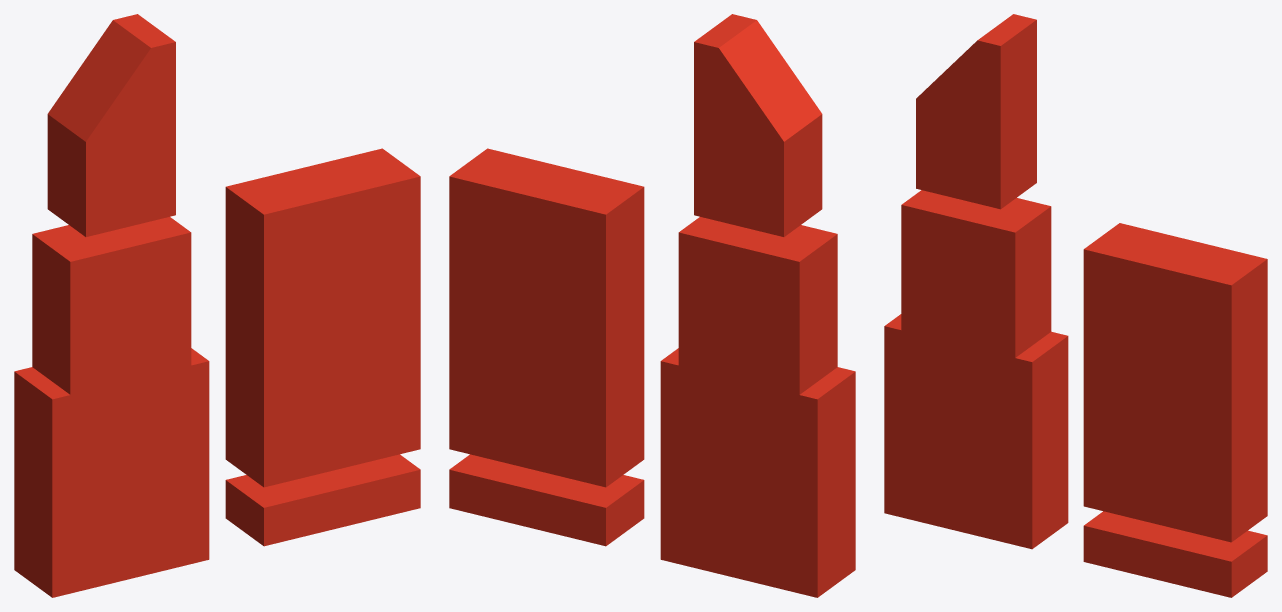
File: Icon_Lipstick.fbx
The picture shows the model from 3 angles, left to right: view 1: azimuth 30°, elevation 25°; view 2: azimuth 150°, elevation 25°; view 3: azimuth 330°, elevation 25°; orthographic projection. The views are drawn at different scales.
Visible parts, largest first — view 1: Icon_Lipstick; view 2: Icon_Lipstick; view 3: Icon_Lipstick.
Part boxes in pixels (x1=…): Icon_Lipstick: x1=14, y1=14, x2=420, y2=597; Icon_Lipstick: x1=449, y1=14, x2=855, y2=597; Icon_Lipstick: x1=884, y1=14, x2=1267, y2=597.
Bounding box in the file's own units: 56.02 × 76.44 × 10.08.
